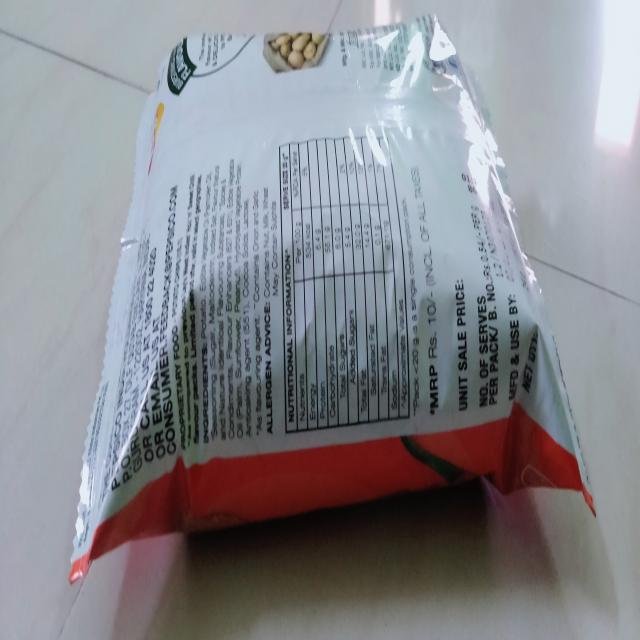lays: (68, 16, 595, 590)
